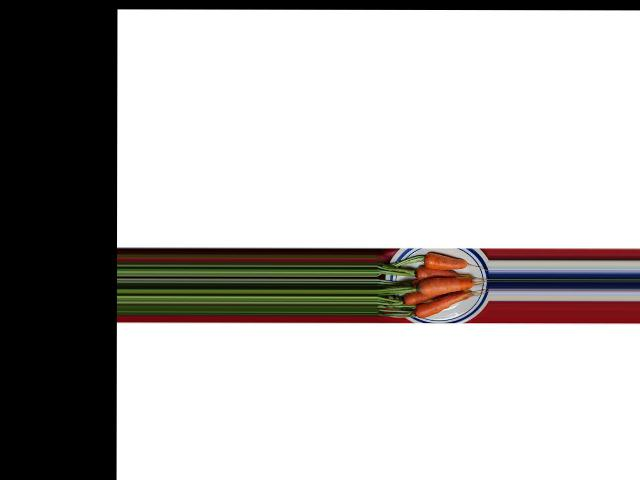carrot: (419, 250, 468, 272)
